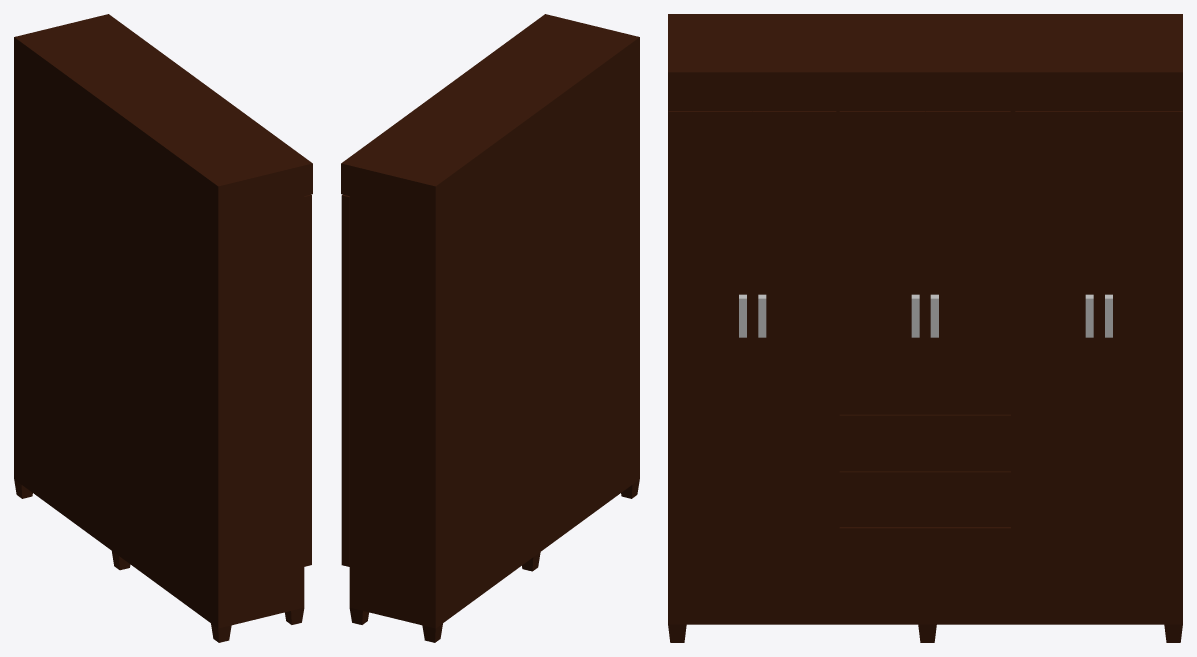
File: armario.fbx
The picture shows the model from 3 angles, left to right: view 1: azimuth 30°, elevation 25°; view 2: azimuth 150°, elevation 25°; view 3: azimuth 270°, elevation 25°; orthographic projection. The views are drawn at different scales.
Visible parts, largest first — view 1: Cube; view 2: Cube; view 3: Cube (×2).
Part boxes in pixels (x1=…): Cube: x1=14, y1=14, x2=312, y2=642; Cube: x1=341, y1=14, x2=639, y2=642; Cube (×2): x1=668, y1=14, x2=1182, y2=642.
Bounding box in the file's own units: 47 × 204 × 165.
